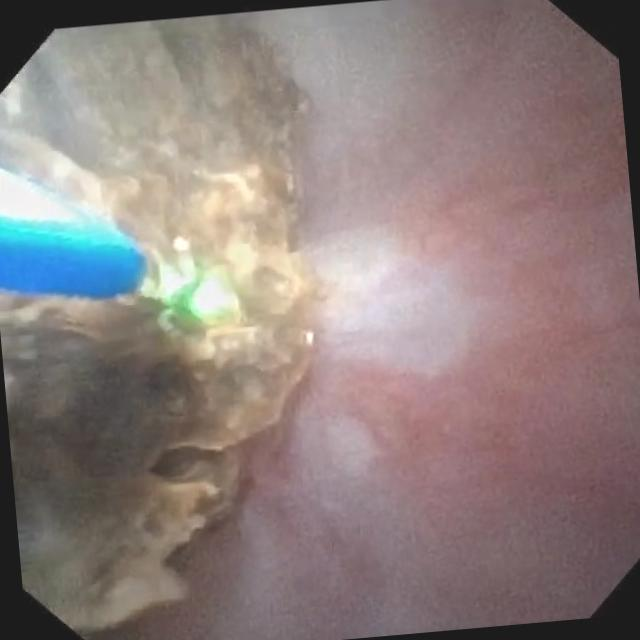laser_dot: (189, 275, 234, 317)
stone-new: (0, 15, 317, 630)
